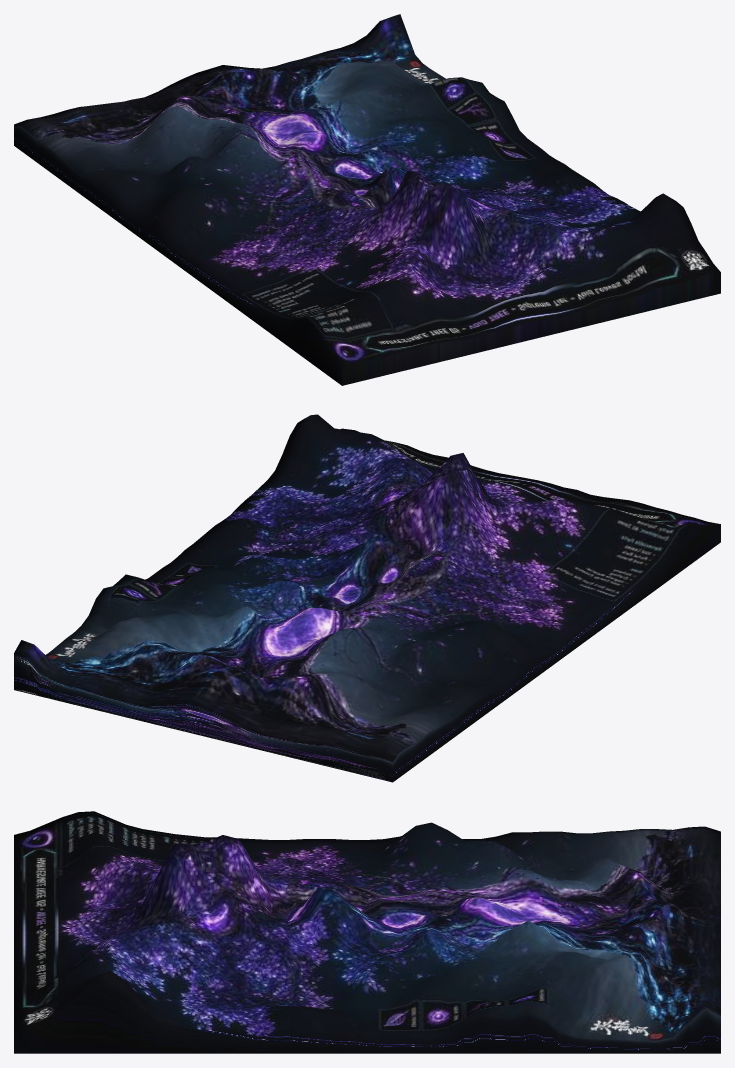
File: TREE_05_Void_Tree.glb
3 views of the same model, one above another, from view 1: azimuth 30°, elevation 25°; view 2: azimuth 150°, elevation 25°; view 3: azimuth 270°, elevation 25° (orthographic). The views are drawn at different scales.
Visible parts, largest first — view 1: TREE_05_Void_Tree; view 2: TREE_05_Void_Tree; view 3: TREE_05_Void_Tree.
Part boxes in pixels (x1,y1,x2,y2): TREE_05_Void_Tree: (14,14,720,385); TREE_05_Void_Tree: (14,414,720,782); TREE_05_Void_Tree: (14,811,720,1053).
Bounding box in the file's own units: 2 × 0.51 × 3.
1 material, 1 textured.
